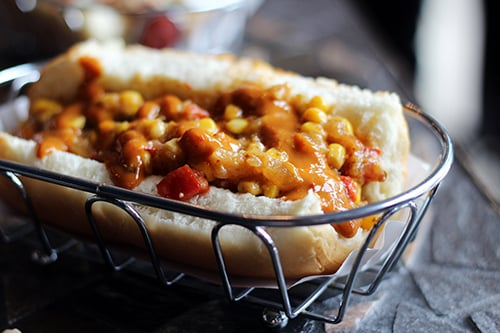sushi: (2, 36, 454, 324)
